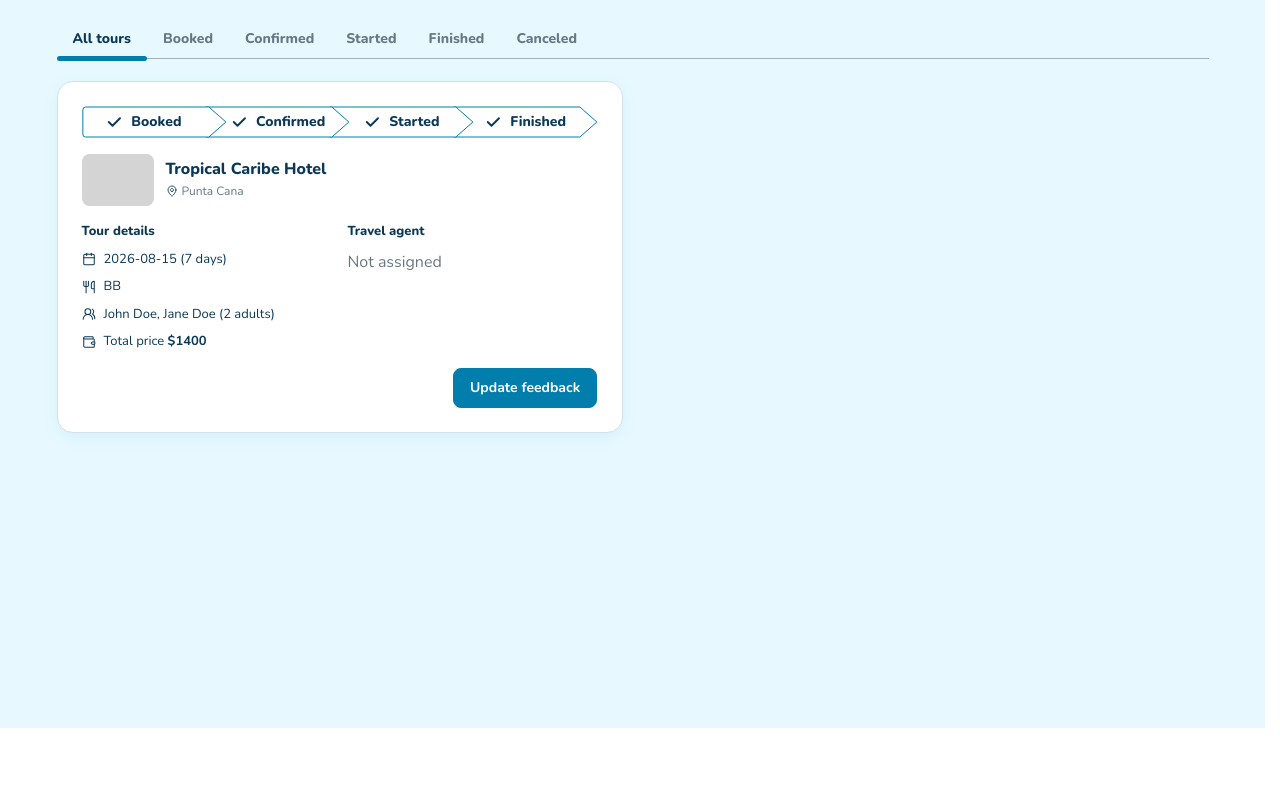
Test case: MyToursPage Component › updates feedback via bookingsService.submitFeedback with isUpdate true and displays updated success toast
Click the button "Update feedback" at (525, 388), box [453,368,598,408]
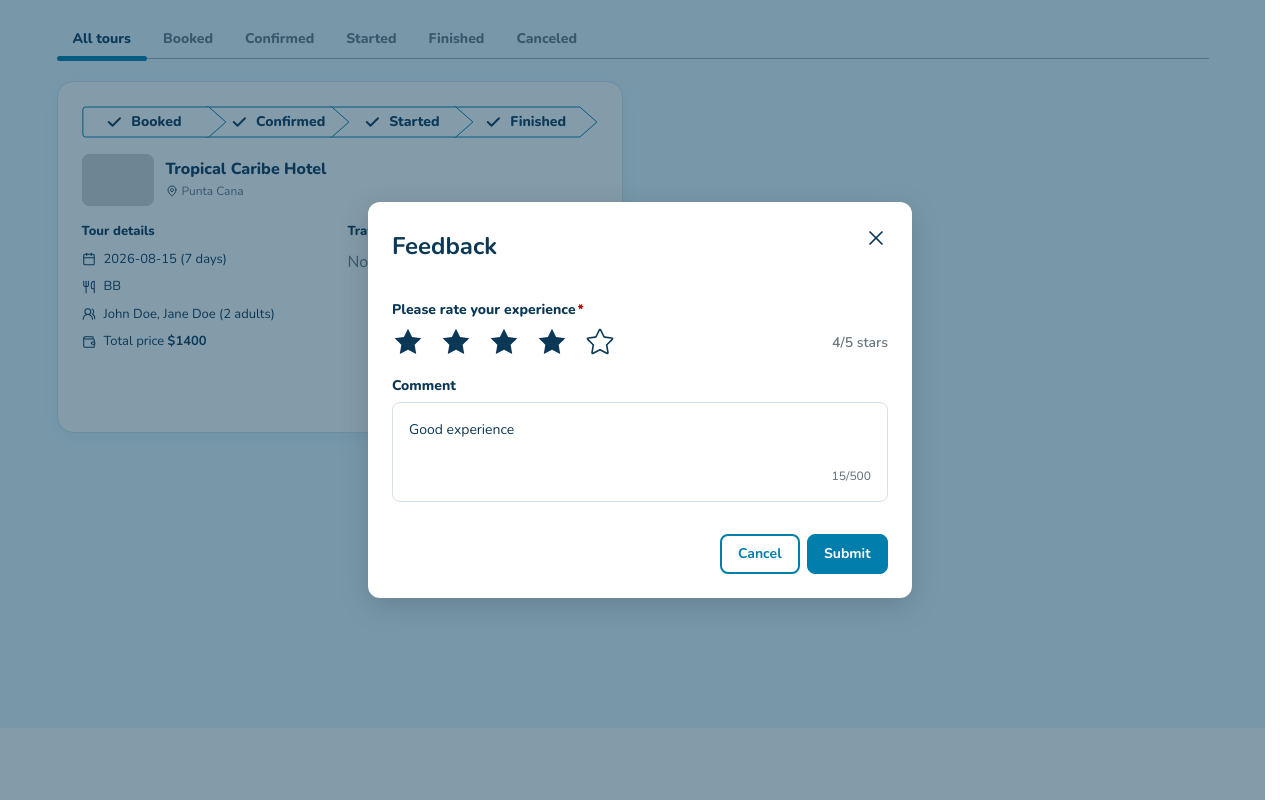
Click the button with test id "feedback-star-5" at (600, 342), box [584,326,616,358]
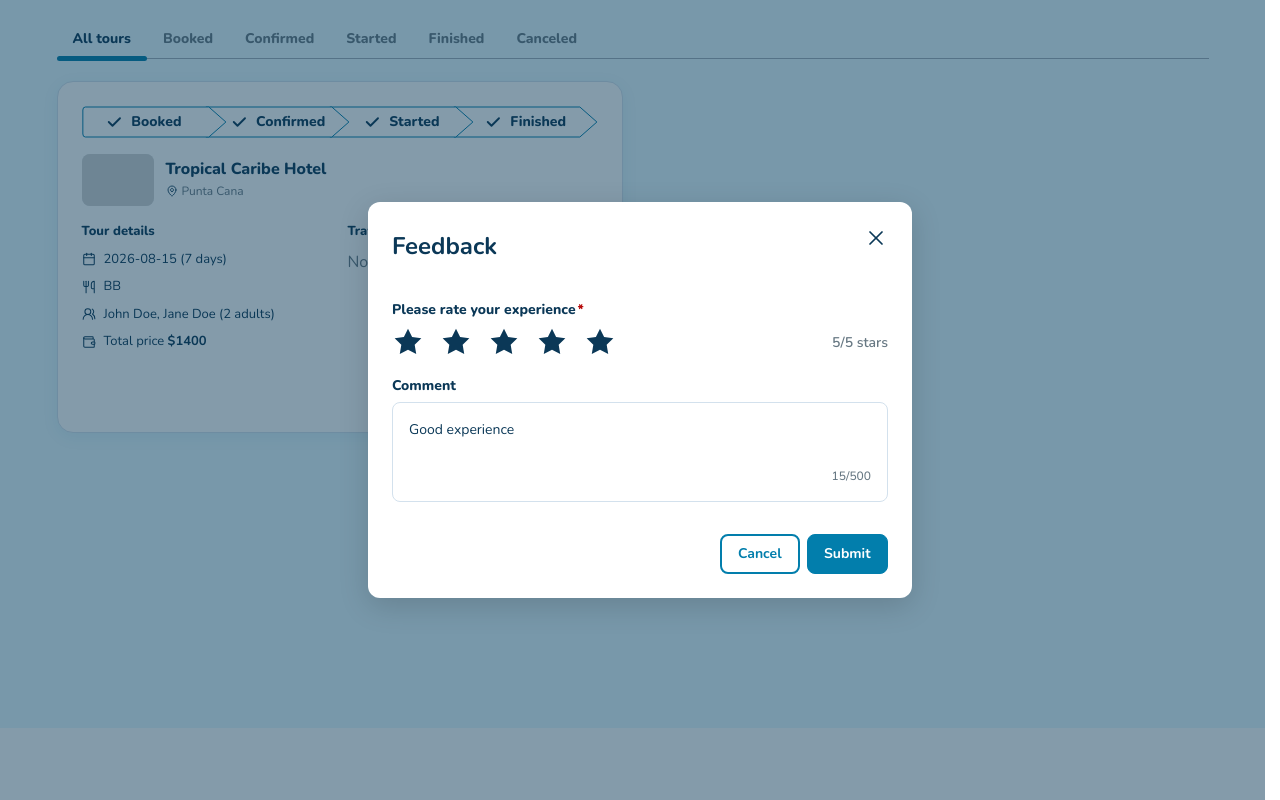
Replace the text in the text box with test id "feedback-comment-input" with "Updated awesome tour" at (640, 443), box [409,419,871,467]
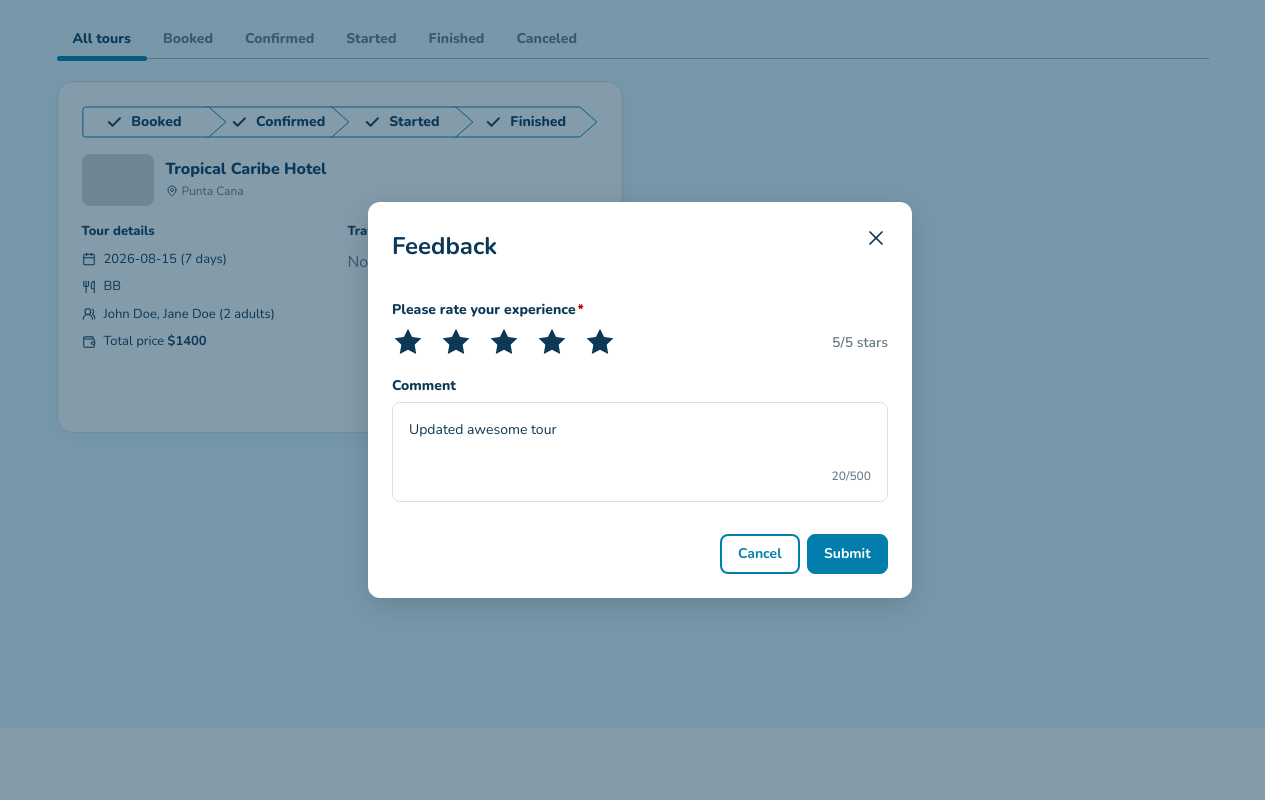
Click the button with test id "feedback-submit-btn" at (848, 554), box [807,534,888,574]
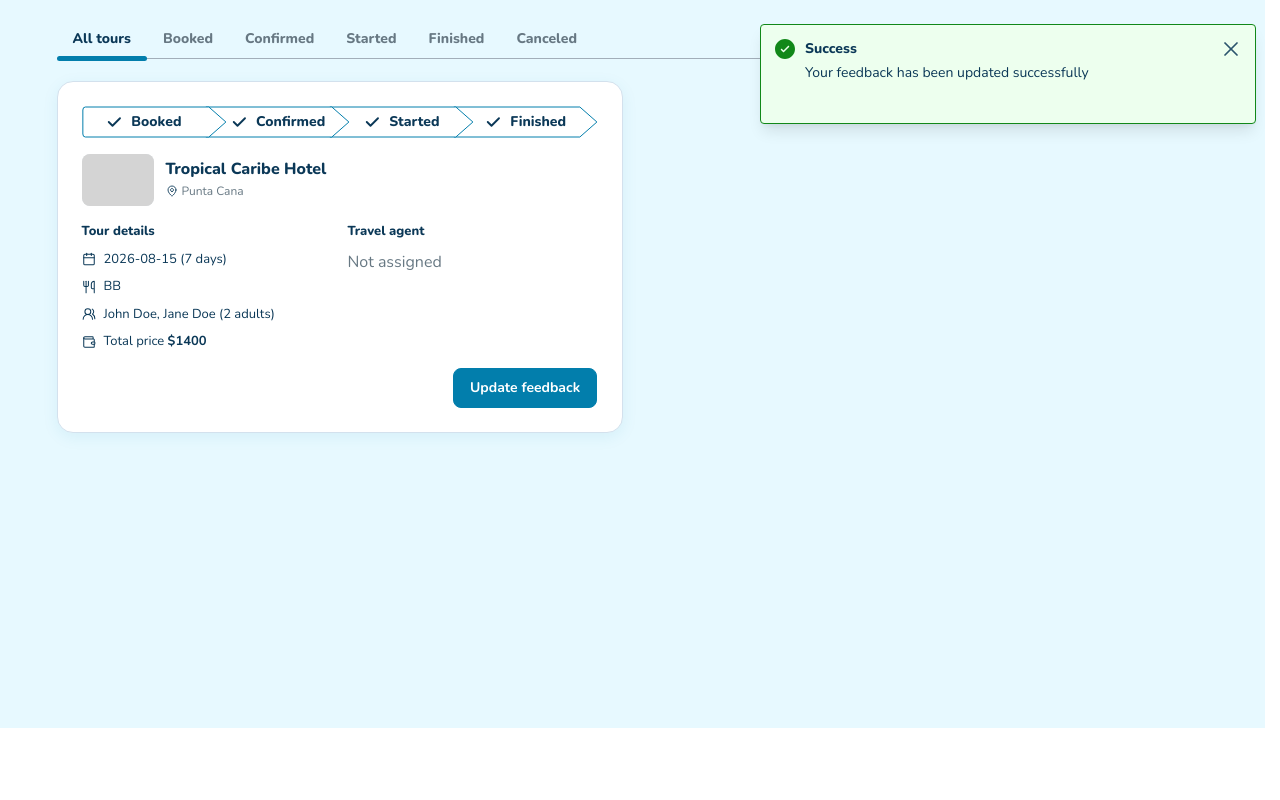
Expected: the text "Your feedback has been updated successfully" is shown, [805,61,1089,85]
